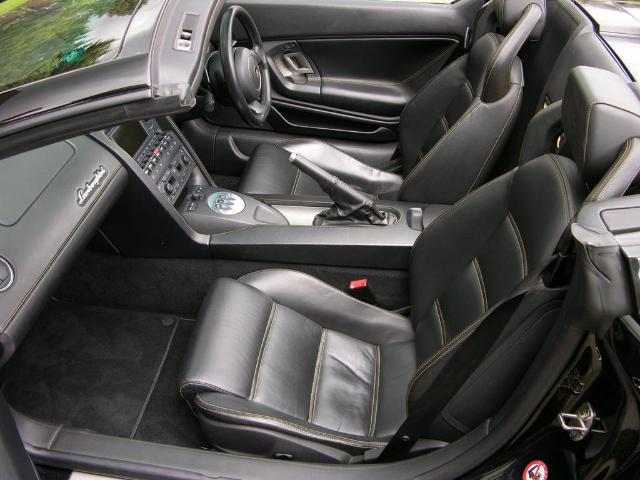Seatbelt: (366, 257, 556, 465)
